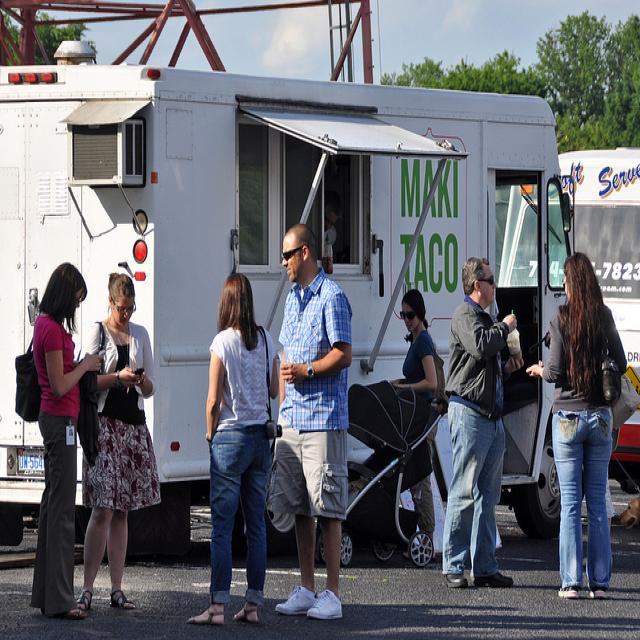Vehicle: (2, 60, 575, 543)
